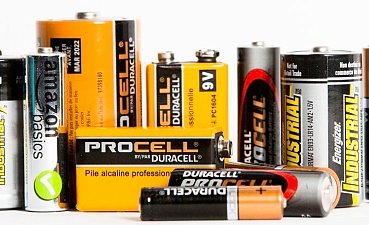Battery: (74, 125, 236, 215), (279, 45, 366, 209), (34, 10, 143, 127), (168, 166, 337, 218), (26, 45, 70, 214), (145, 47, 230, 133), (236, 39, 281, 165), (137, 186, 287, 222)
